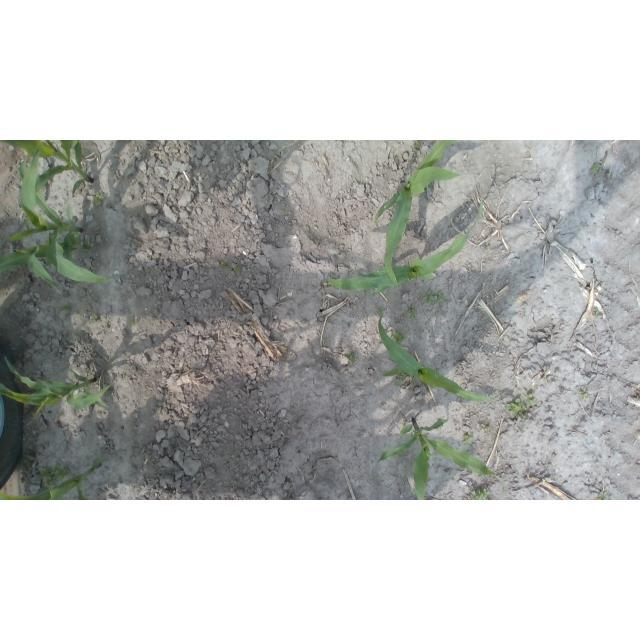Maize: (1, 144, 112, 290), (325, 199, 483, 295), (373, 141, 464, 284), (374, 416, 508, 500), (377, 317, 492, 403), (1, 357, 112, 420), (0, 140, 94, 194), (1, 462, 104, 500)
Weeds: (37, 465, 71, 490), (507, 398, 526, 419), (421, 291, 446, 306), (470, 488, 490, 500), (391, 330, 408, 344), (463, 431, 476, 446), (406, 305, 418, 319), (70, 232, 81, 247), (522, 392, 534, 405), (345, 353, 359, 364), (594, 492, 611, 500), (478, 421, 491, 431), (589, 163, 602, 173), (62, 302, 73, 312), (579, 389, 589, 400), (231, 263, 241, 274), (93, 192, 102, 204), (91, 313, 100, 323), (128, 318, 138, 327), (376, 305, 385, 315), (103, 321, 111, 331), (397, 373, 407, 381), (220, 260, 228, 269), (413, 140, 420, 148), (592, 308, 599, 315), (393, 379, 400, 385), (326, 282, 331, 286), (412, 491, 416, 495)
